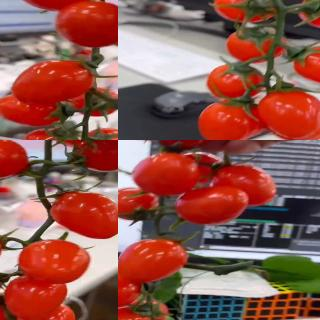tomato: (12, 59, 98, 104), (19, 240, 90, 286), (118, 238, 187, 285), (53, 190, 118, 239), (258, 89, 320, 140), (133, 152, 202, 197), (56, 0, 118, 49), (210, 165, 279, 208), (175, 185, 249, 225), (196, 99, 268, 140), (5, 276, 68, 320), (0, 91, 69, 128), (226, 27, 288, 65), (204, 63, 266, 101), (118, 187, 164, 223), (214, 0, 277, 25), (72, 140, 118, 172), (0, 140, 30, 179), (292, 45, 320, 85), (118, 268, 143, 309), (9, 0, 92, 12), (13, 304, 75, 320), (19, 126, 79, 140), (295, 0, 320, 29), (0, 293, 22, 320), (81, 127, 118, 140)
